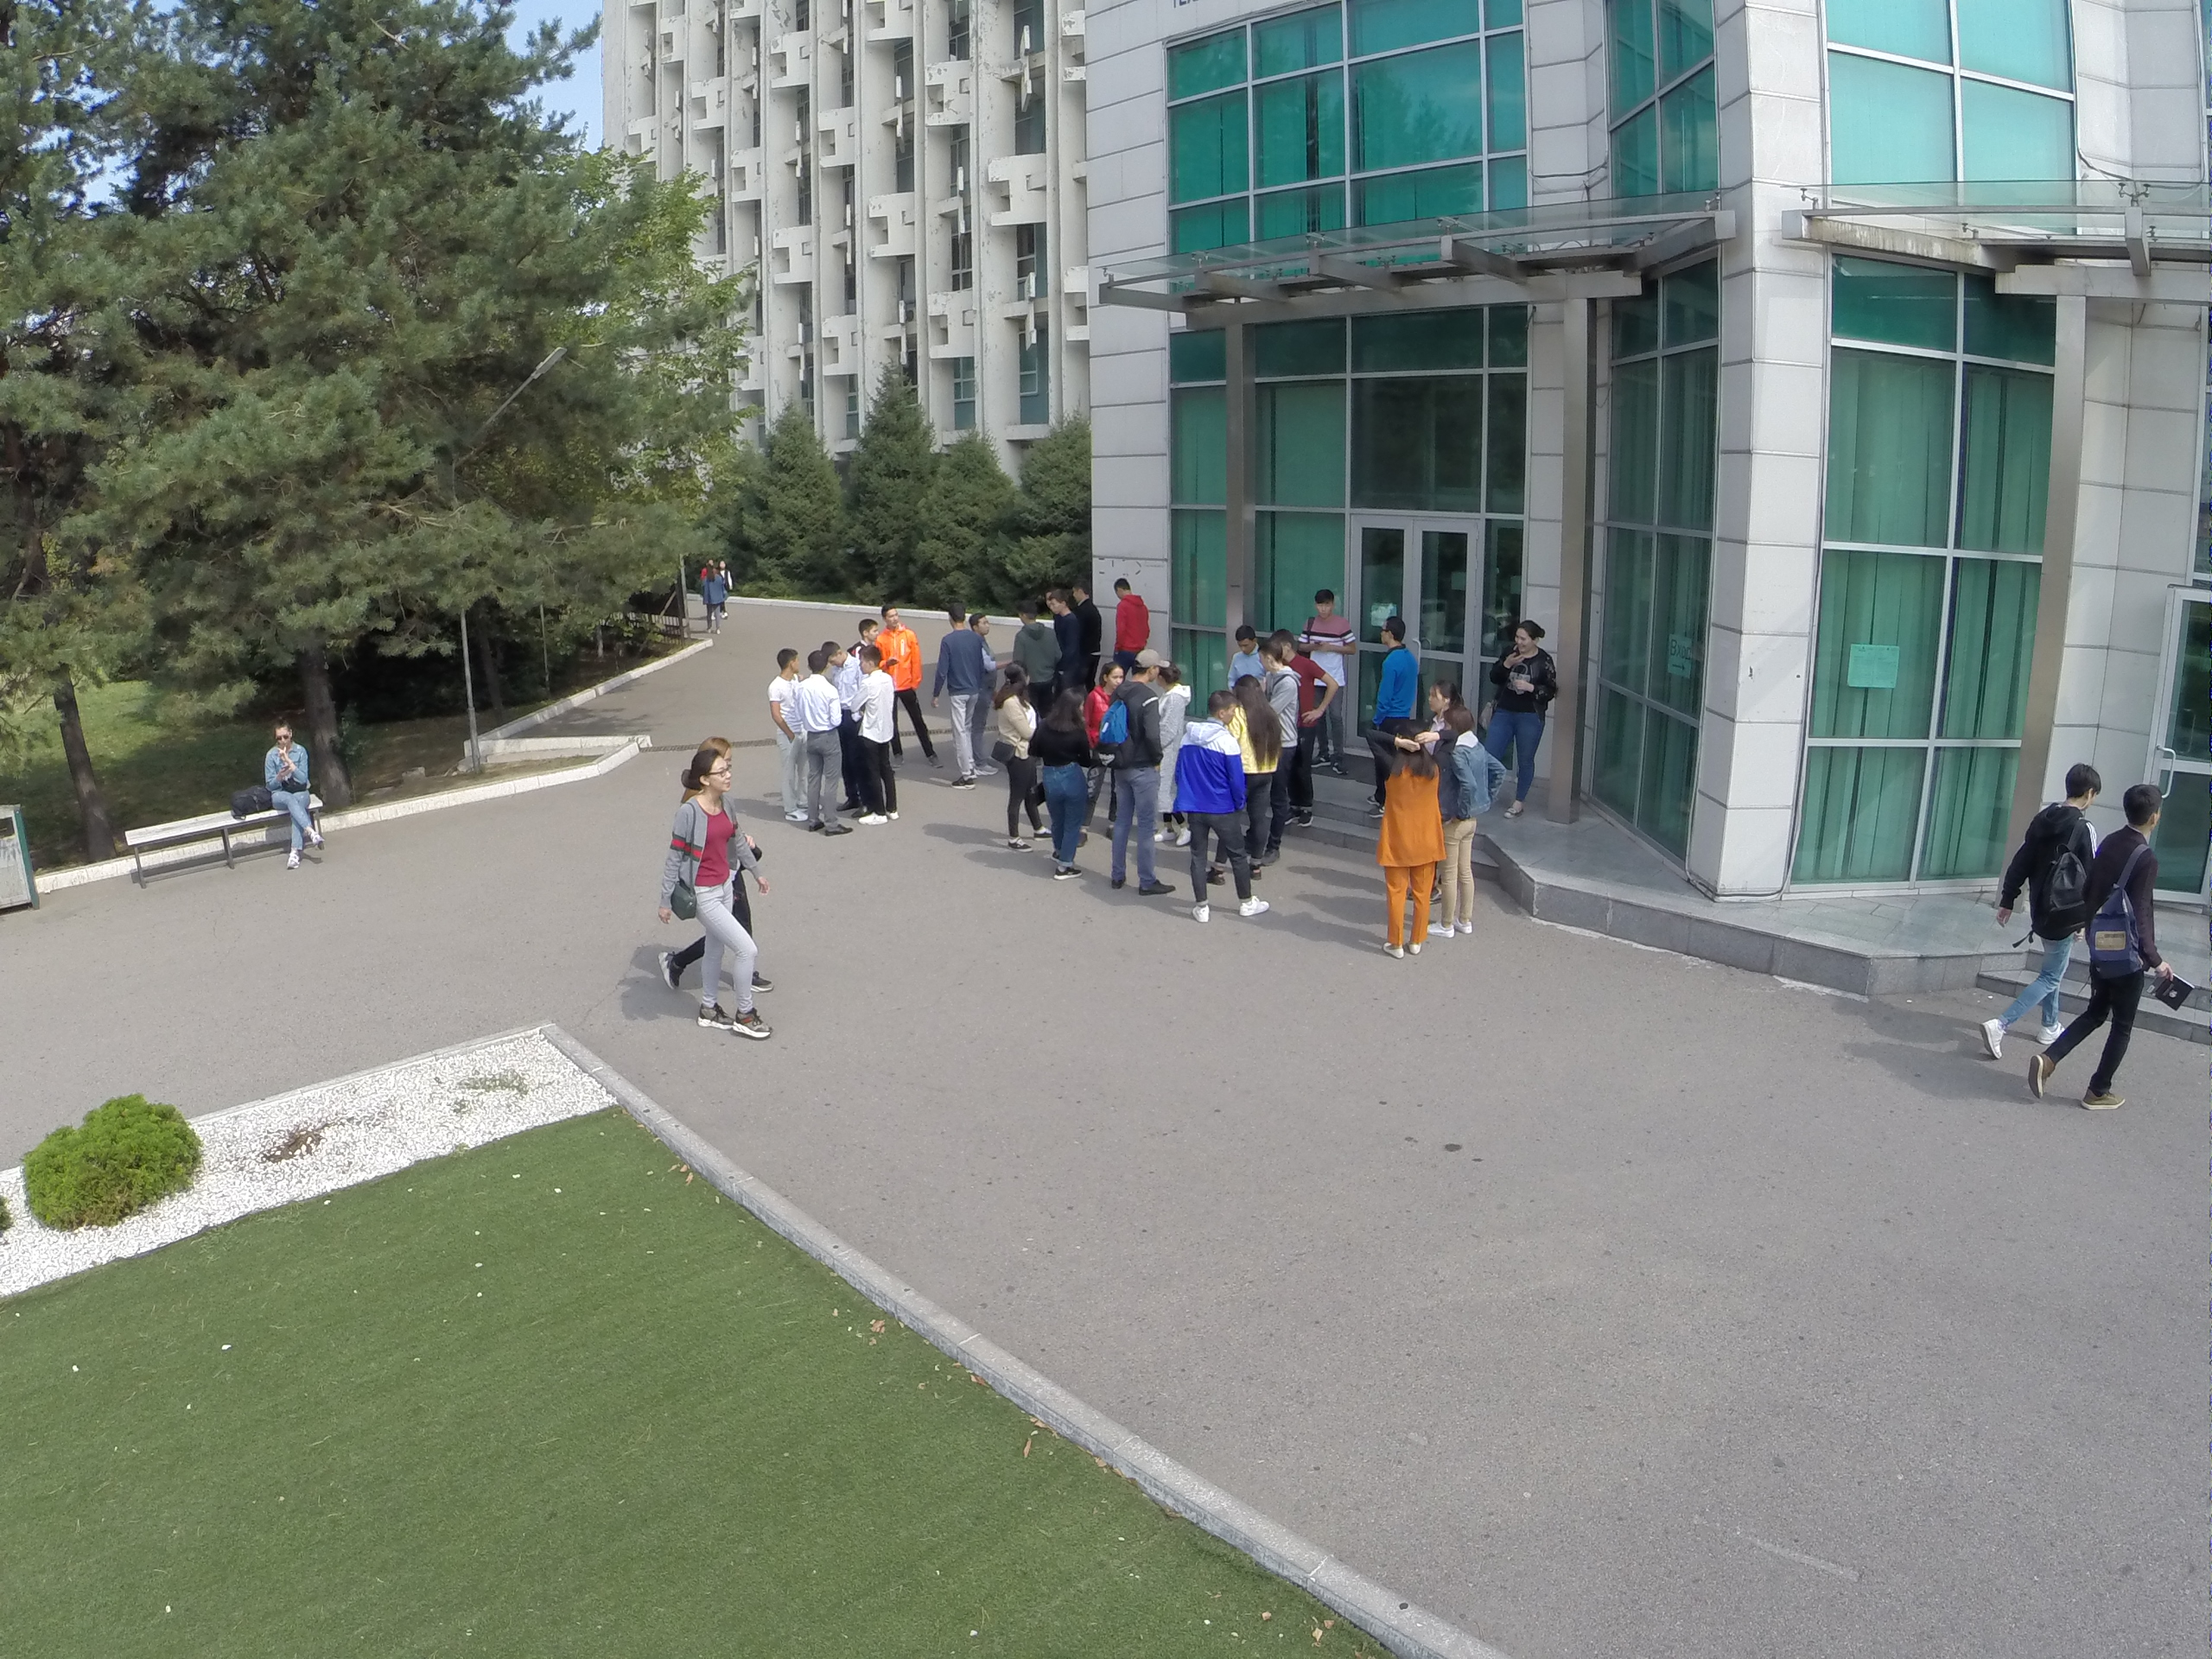person: (2031, 785, 2175, 1119), (653, 745, 779, 1050), (1976, 765, 2104, 1064), (1358, 721, 1451, 963), (1182, 683, 1266, 925), (1200, 674, 1272, 880), (1110, 649, 1168, 893), (1446, 702, 1503, 941), (1494, 621, 1559, 826), (992, 660, 1049, 861), (877, 591, 939, 770), (925, 597, 981, 790), (264, 710, 327, 877), (1246, 640, 1291, 867), (1039, 683, 1084, 884), (1146, 658, 1192, 849), (1306, 588, 1354, 772), (858, 653, 907, 829), (1081, 659, 1125, 844), (805, 652, 842, 840), (1366, 613, 1422, 728), (772, 652, 807, 825), (1004, 601, 1058, 689), (1109, 578, 1151, 672), (1223, 621, 1258, 678), (700, 563, 721, 634)
